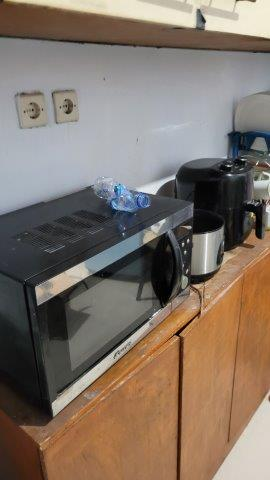botolplastik: (89, 177, 151, 213)
